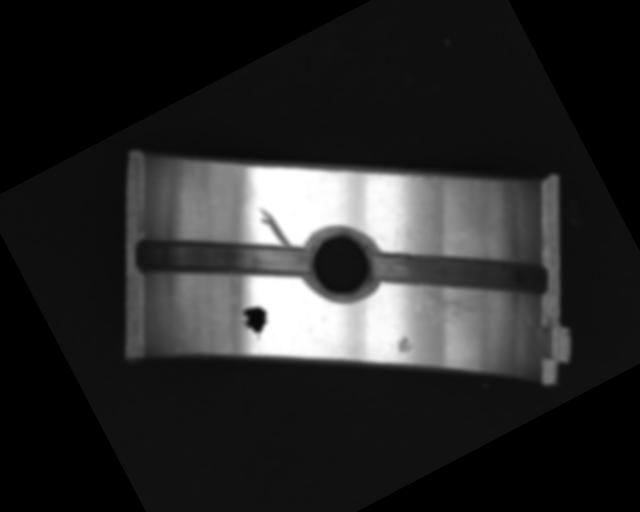blot: (236, 300, 277, 344)
bruise: (388, 333, 415, 359)
gap: (366, 188, 556, 359), (130, 178, 311, 338)
hole: (290, 214, 390, 314)
nick: (255, 202, 291, 252)
scratch: (409, 259, 499, 345)
